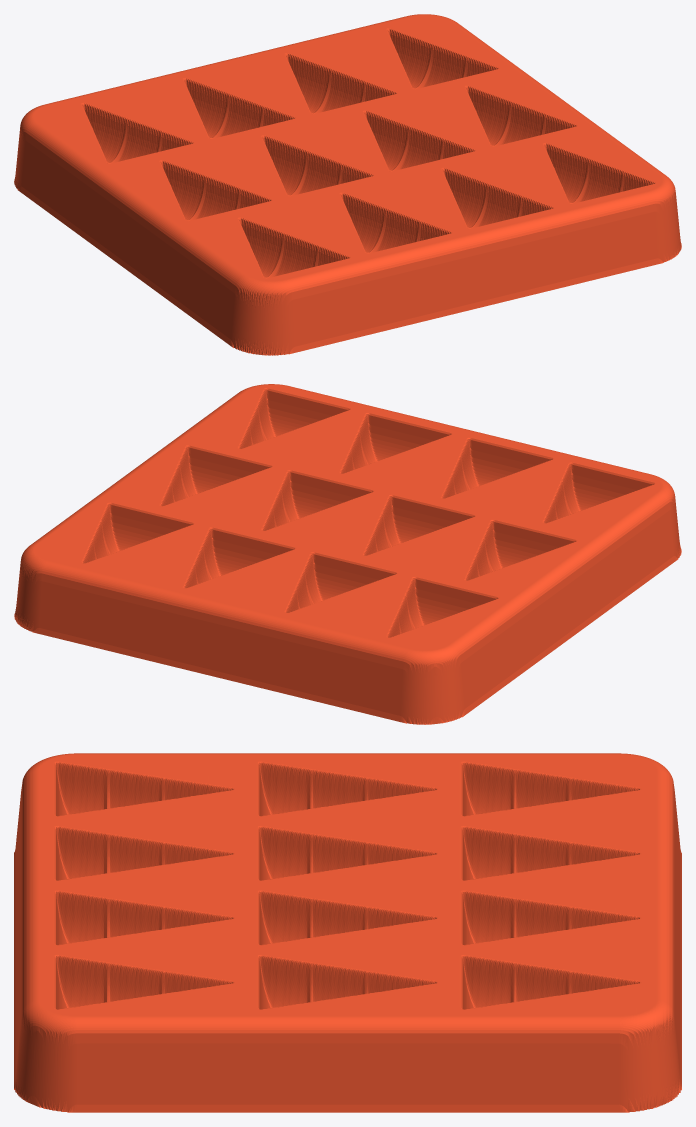
File: mold.glb
The picture shows the model from 3 angles, top to bottom: view 1: azimuth 30°, elevation 25°; view 2: azimuth 150°, elevation 25°; view 3: azimuth 270°, elevation 25°; orthographic projection. The views are drawn at different scales.
Visible parts, largest first — view 1: geometry_0; view 2: geometry_0; view 3: geometry_0.
Part boxes in pixels (x1,y1,x2,y2): geometry_0: (14, 14, 681, 355); geometry_0: (14, 384, 681, 724); geometry_0: (14, 753, 681, 1112).
Size of the model in its own units: 0.0963 by 0.0136 by 0.0963.
